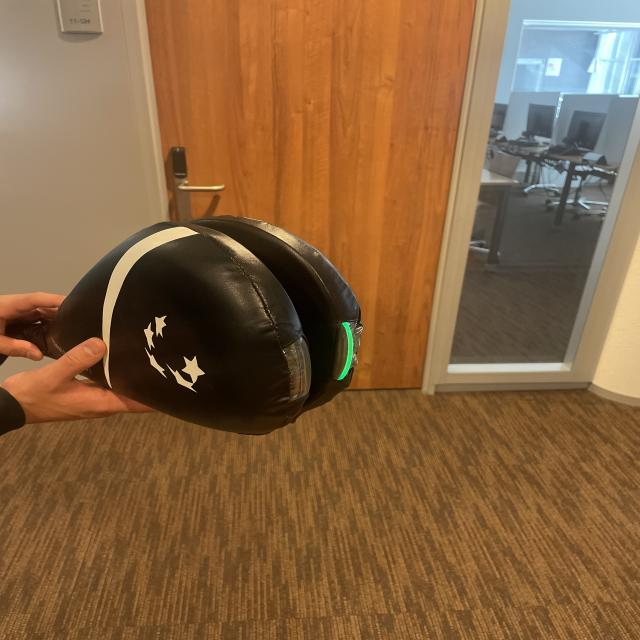paddle: (42, 219, 369, 422)
trigger: (331, 315, 359, 387)
